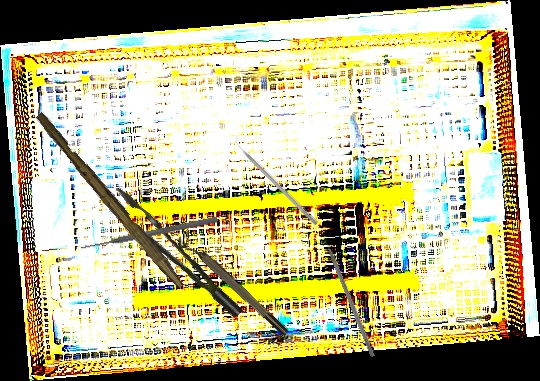Chopper: (230, 133, 323, 226)
Fixation Ring: (174, 228, 291, 343)
Hook Surgical: (321, 232, 377, 358)
Pusher: (79, 214, 219, 253)
Scalpel Handle: (31, 110, 190, 290)
Tissue Forceps: (104, 175, 244, 334)
